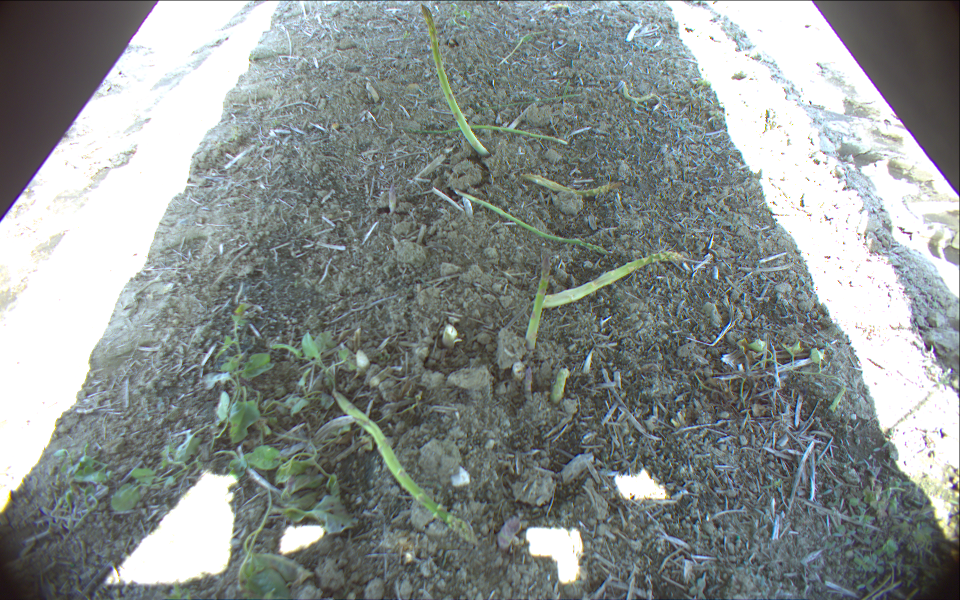aspa: (333, 389, 473, 542), (420, 1, 489, 155), (458, 192, 610, 254), (539, 251, 684, 309), (399, 121, 568, 146), (522, 250, 552, 351), (526, 173, 626, 197), (618, 80, 662, 114), (548, 368, 569, 405)
